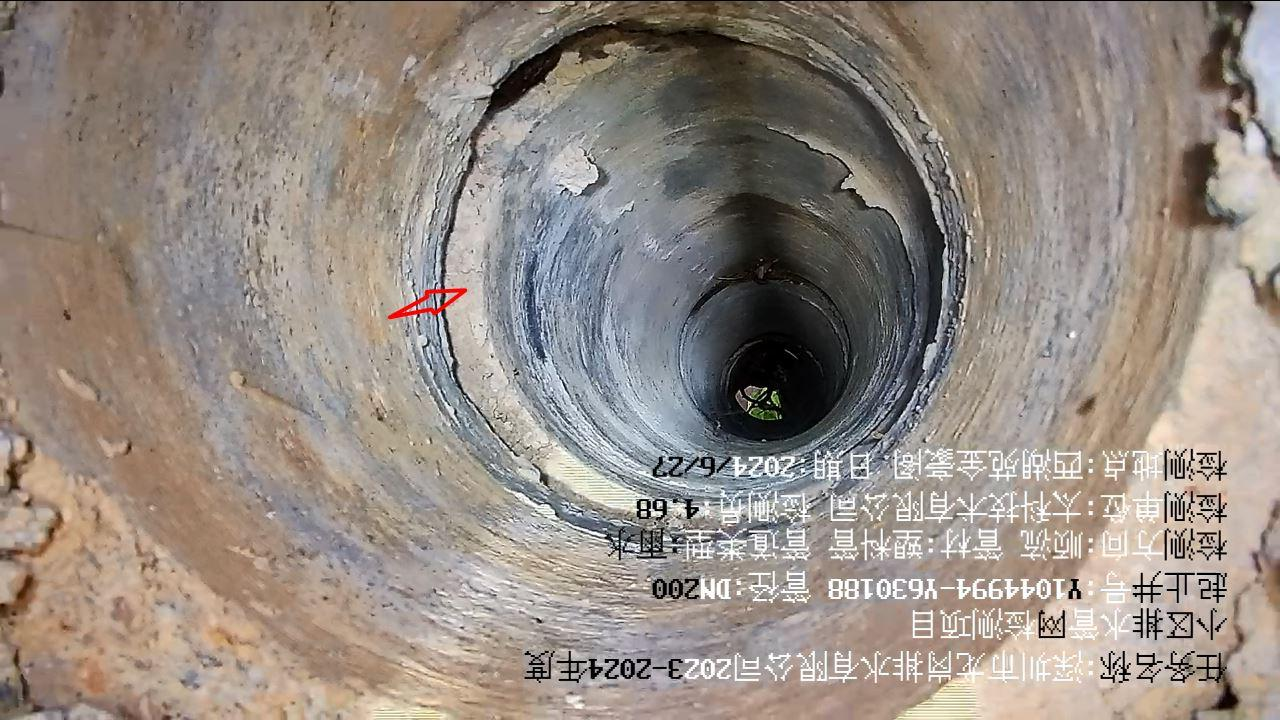CKTJ: (429, 6, 911, 529)
